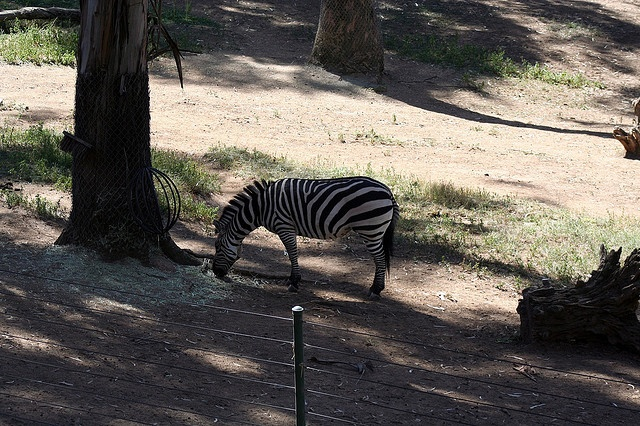zebra: (210, 174, 402, 293)
